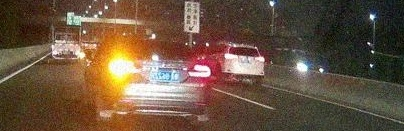L_light: (108, 61, 135, 74), (224, 53, 237, 59)
R_light: (186, 63, 212, 77), (254, 56, 265, 62)
T_light: (143, 40, 162, 44), (241, 47, 249, 49)
night-left: (102, 36, 213, 129)
night-no: (222, 43, 265, 84)
